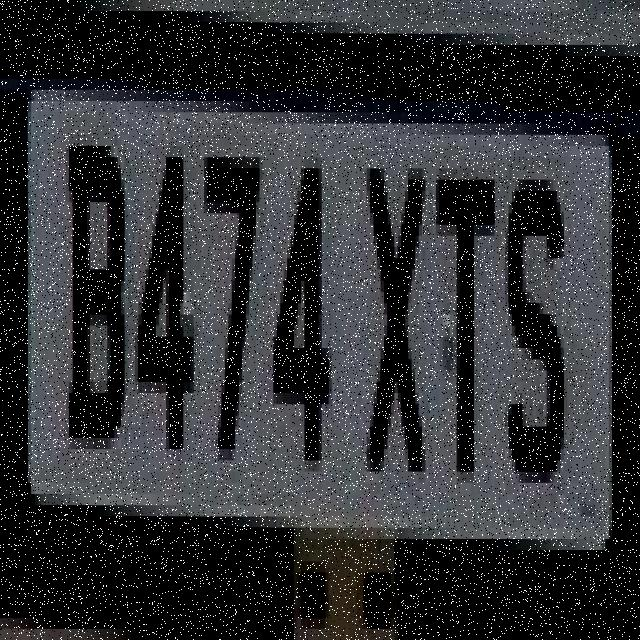licenseplate: (21, 64, 606, 564)
